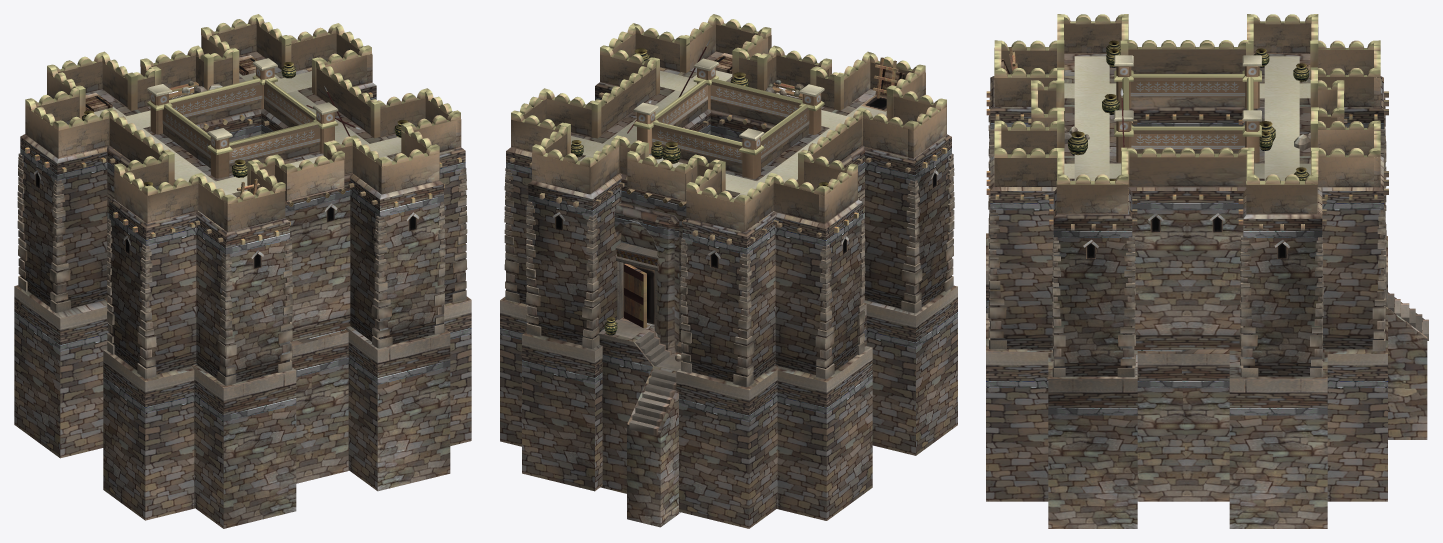
Rendered from kush_fortress.glb.
3 renders of one model, left to right at view 1: azimuth 30°, elevation 25°; view 2: azimuth 150°, elevation 25°; view 3: azimuth 270°, elevation 25°, orthographic. The views are drawn at different scales.
Parts seen in each view (by area): view 1: kush_fortress_part0; view 2: kush_fortress_part0; view 3: kush_fortress_part0.
Part boxes in pixels (x1,y1,x2,y2): kush_fortress_part0: [14, 14, 471, 528]; kush_fortress_part0: [500, 14, 957, 528]; kush_fortress_part0: [986, 14, 1428, 528].
Bounding box in the file's own units: 5.45 × 5.73 × 6.
2 materials, 2 textured.
